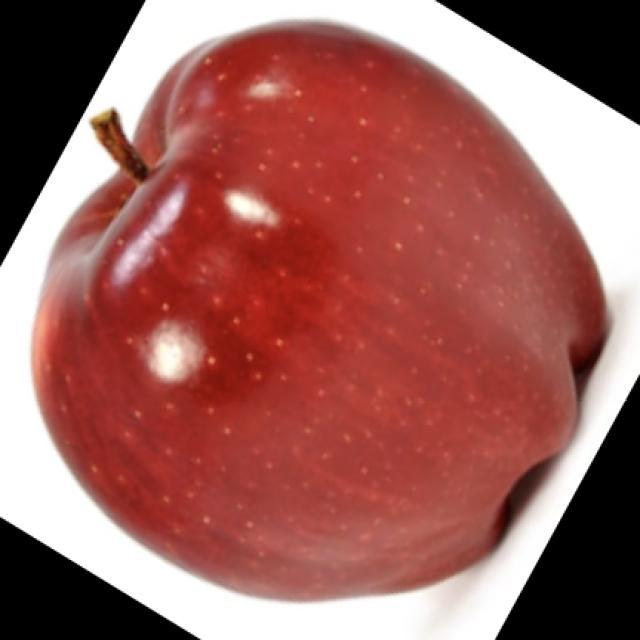Fresh Apple: (52, 39, 598, 614)
